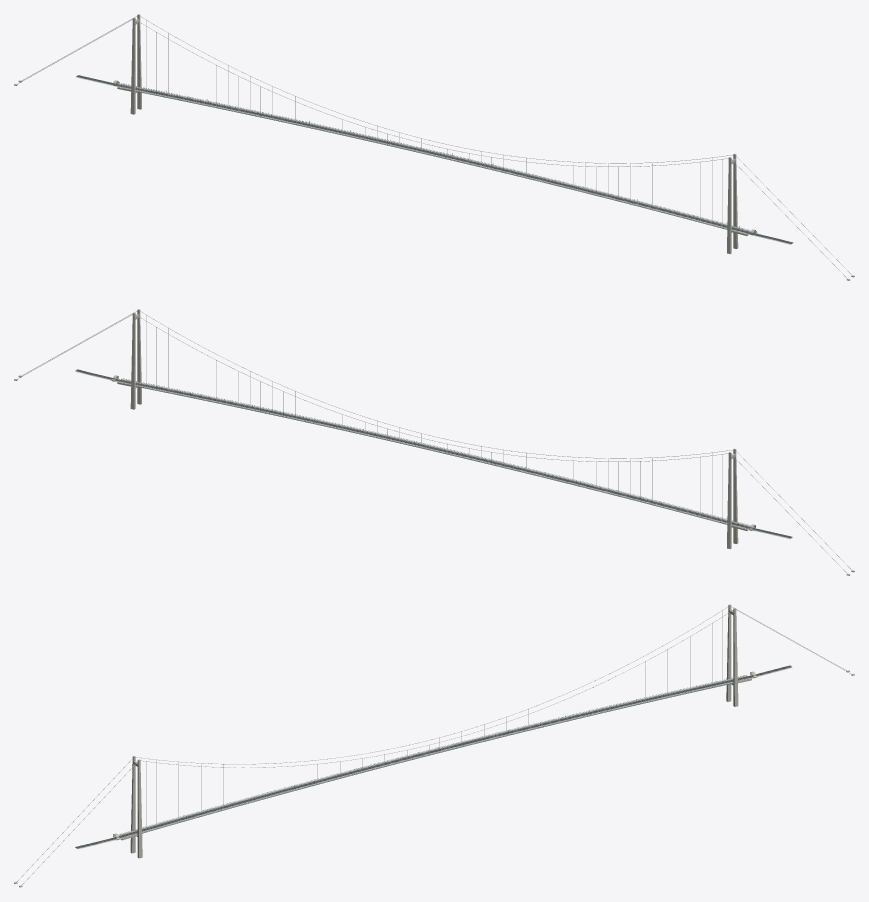
The model's file is hardanger-bridge-near.glb.
3 views of the same model, one above another, from view 1: azimuth 30°, elevation 25°; view 2: azimuth 210°, elevation 25°; view 3: azimuth 270°, elevation 25° (orthographic). The views are drawn at different scales.
Visible parts, largest first — view 1: hardanger-bridge-2-concrete, hardanger-bridge-0-concrete, hardanger-bridge-1-cable, hardanger-bridge-1-steel, hardanger-bridge-1-concrete, hardanger-bridge-2-steel, hardanger-bridge-0-steel, hardanger-bridge-2-cable, hardanger-bridge-1-asphalt, hardanger-bridge-2-asphalt, hardanger-bridge-0-asphalt; view 2: hardanger-bridge-0-concrete, hardanger-bridge-2-concrete, hardanger-bridge-1-cable, hardanger-bridge-1-concrete, hardanger-bridge-1-steel, hardanger-bridge-0-steel, hardanger-bridge-2-steel, hardanger-bridge-2-cable, hardanger-bridge-0-asphalt, hardanger-bridge-1-asphalt, hardanger-bridge-2-asphalt; view 3: hardanger-bridge-2-concrete, hardanger-bridge-0-concrete, hardanger-bridge-1-cable, hardanger-bridge-1-concrete, hardanger-bridge-1-steel, hardanger-bridge-2-steel, hardanger-bridge-0-steel, hardanger-bridge-2-asphalt, hardanger-bridge-1-asphalt, hardanger-bridge-0-asphalt, hardanger-bridge-2-cable.
Boxes of the visible parts, bbox=[...] form: hardanger-bridge-2-concrete: bbox=[552, 153, 854, 280]; hardanger-bridge-0-concrete: bbox=[76, 14, 317, 128]; hardanger-bridge-1-cable: bbox=[135, 16, 732, 172]; hardanger-bridge-1-steel: bbox=[313, 110, 555, 184]; hardanger-bridge-1-concrete: bbox=[314, 125, 555, 183]; hardanger-bridge-2-steel: bbox=[552, 157, 749, 234]; hardanger-bridge-0-steel: bbox=[117, 23, 317, 128]; hardanger-bridge-2-cable: bbox=[573, 156, 851, 278]; hardanger-bridge-1-asphalt: bbox=[315, 126, 554, 182]; hardanger-bridge-2-asphalt: bbox=[554, 182, 792, 243]; hardanger-bridge-0-asphalt: bbox=[76, 75, 316, 127]; hardanger-bridge-0-concrete: bbox=[551, 448, 792, 549]; hardanger-bridge-2-concrete: bbox=[14, 309, 316, 422]; hardanger-bridge-1-cable: bbox=[135, 311, 732, 467]; hardanger-bridge-1-concrete: bbox=[312, 420, 554, 478]; hardanger-bridge-1-steel: bbox=[312, 405, 553, 479]; hardanger-bridge-0-steel: bbox=[551, 452, 750, 529]; hardanger-bridge-2-steel: bbox=[117, 318, 315, 423]; hardanger-bridge-2-cable: bbox=[16, 311, 295, 416]; hardanger-bridge-0-asphalt: bbox=[552, 476, 792, 538]; hardanger-bridge-1-asphalt: bbox=[314, 420, 553, 477]; hardanger-bridge-2-asphalt: bbox=[75, 369, 314, 421]; hardanger-bridge-2-concrete: bbox=[14, 756, 316, 887]; hardanger-bridge-0-concrete: bbox=[551, 604, 792, 723]; hardanger-bridge-1-cable: bbox=[136, 606, 733, 783]; hardanger-bridge-1-concrete: bbox=[313, 720, 554, 784]; hardanger-bridge-1-steel: bbox=[312, 711, 555, 784]; hardanger-bridge-2-steel: bbox=[119, 761, 316, 838]; hardanger-bridge-0-steel: bbox=[551, 610, 750, 723]; hardanger-bridge-2-asphalt: bbox=[75, 782, 314, 848]; hardanger-bridge-1-asphalt: bbox=[314, 721, 553, 782]; hardanger-bridge-0-asphalt: bbox=[552, 665, 791, 722]; hardanger-bridge-2-cable: bbox=[16, 758, 223, 884].
Bounding box in the file's own units: 965 × 202 × 1585.
